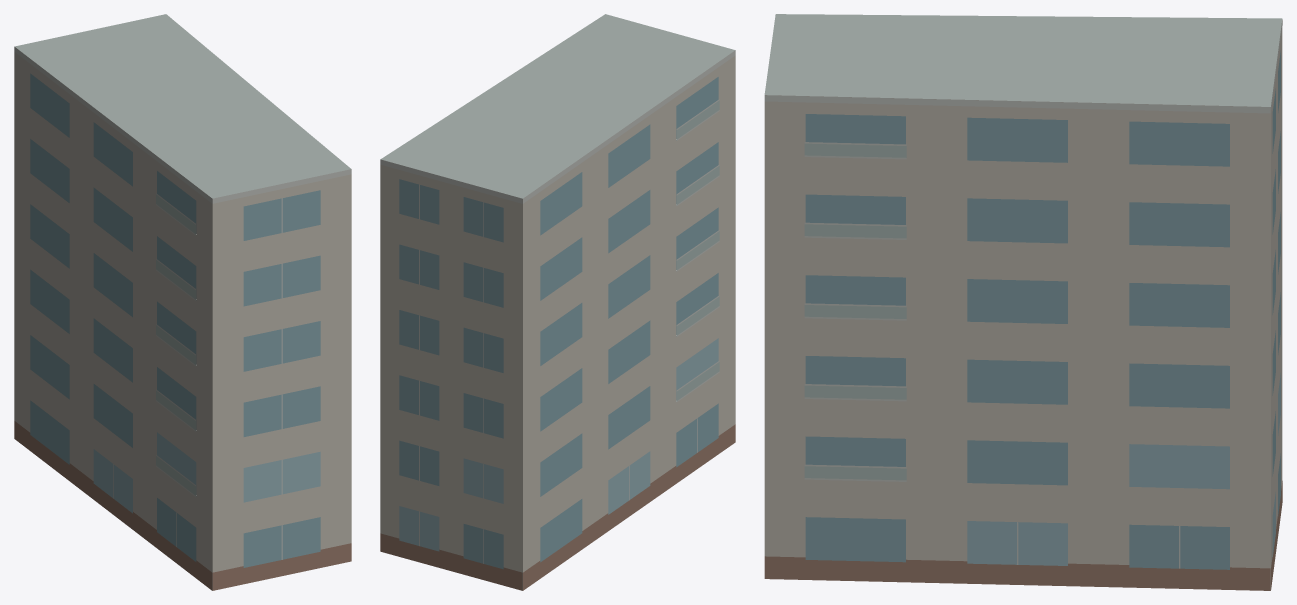
Rendered from survey-upis-32984307.glb.
3 views of the same model, side by side, from view 1: azimuth 30°, elevation 25°; view 2: azimuth 150°, elevation 25°; view 3: azimuth 270°, elevation 25° (orthographic). The views are drawn at different scales.
Parts seen in each view (by area): view 1: survey-upis-32984307.tmp; view 2: survey-upis-32984307.tmp; view 3: survey-upis-32984307.tmp.
Part boxes in pixels (x1=…): survey-upis-32984307.tmp: x1=14, y1=14, x2=351, y2=590; survey-upis-32984307.tmp: x1=380, y1=14, x2=735, y2=590; survey-upis-32984307.tmp: x1=764, y1=14, x2=1282, y2=590.
Size of the model in its own units: 7.56 by 18.3 by 17.76.
